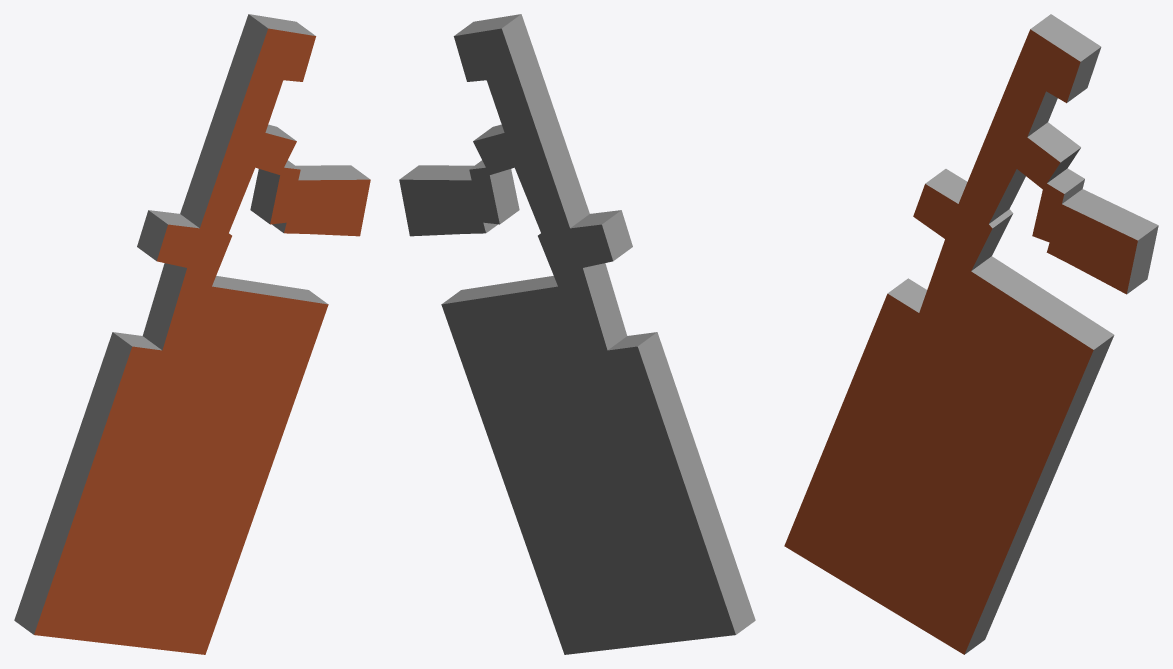
Rendered from construction_0639_assumed_A_Casa_h6m.obj.
3 views of the same model, side by side, from view 1: azimuth 30°, elevation 25°; view 2: azimuth 150°, elevation 25°; view 3: azimuth 330°, elevation 25° (orthographic). The views are drawn at different scales.
Visible parts, largest first — view 1: construction_0639_assumed_A_Casa; view 2: construction_0639_assumed_A_Casa; view 3: construction_0639_assumed_A_Casa.
Boxes of the visible parts, bbox=[...] form: construction_0639_assumed_A_Casa: bbox=[14, 14, 370, 654]; construction_0639_assumed_A_Casa: bbox=[399, 14, 755, 654]; construction_0639_assumed_A_Casa: bbox=[784, 14, 1158, 654].
Size of the model in its own units: 58.98 by 102 by 6.
